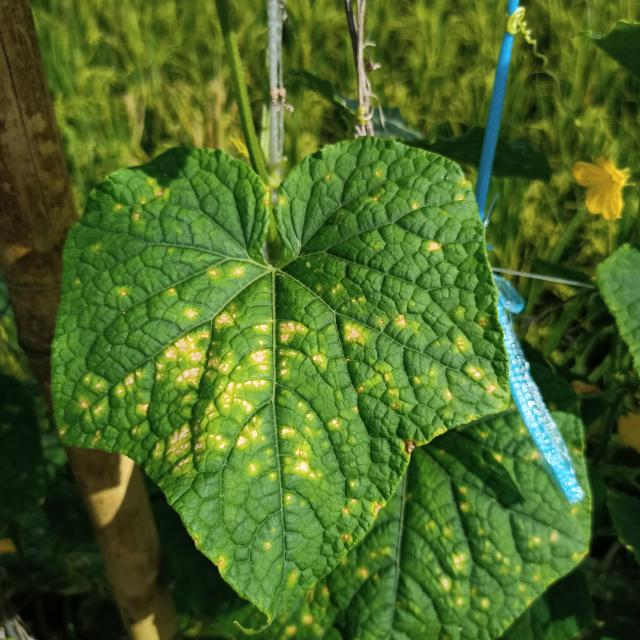disease_cucumber: (58, 162, 498, 588)
